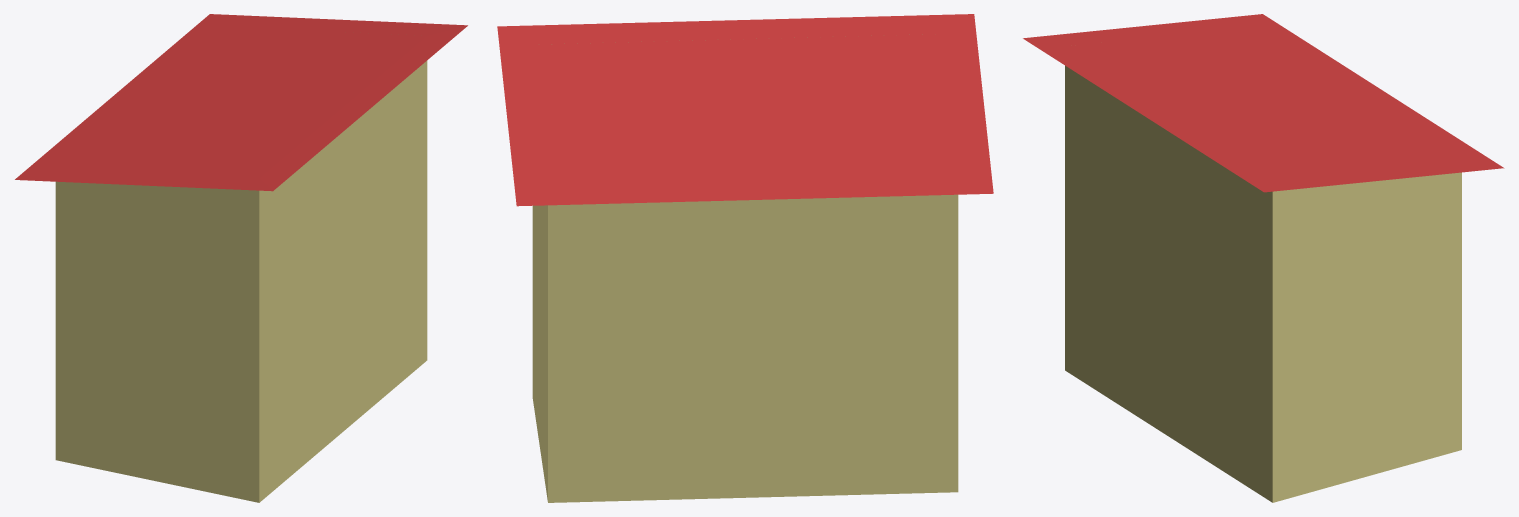
3 renders of one model, left to right at view 1: azimuth 30°, elevation 25°; view 2: azimuth 150°, elevation 25°; view 3: azimuth 270°, elevation 25°, orthographic. The views are drawn at different scales.
Bounding box in the file's own units: 8.55 × 7.86 × 5.91.
